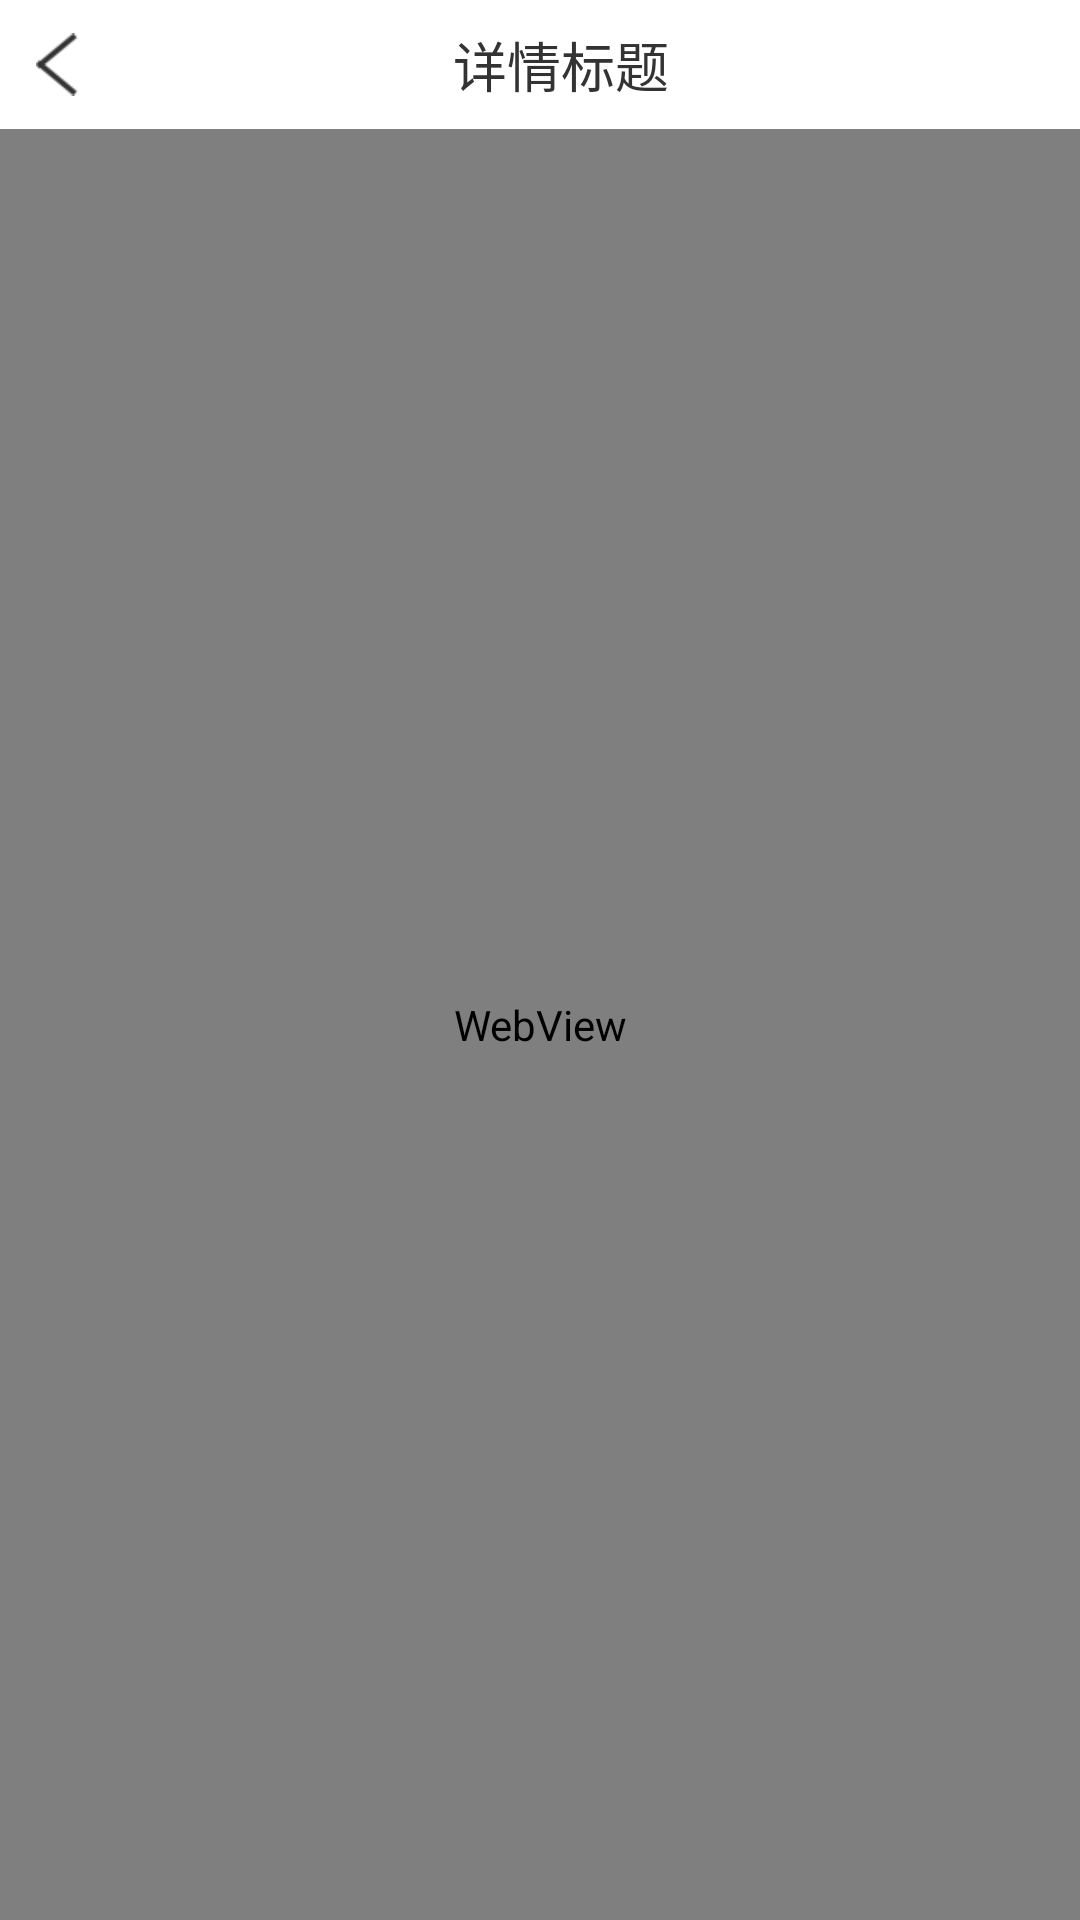

Icons on this 1080w x 1920h Android screen, each with its box as bbox=[x1, y1, x2, y2]:
arrow back: bbox=[36, 33, 77, 96]
